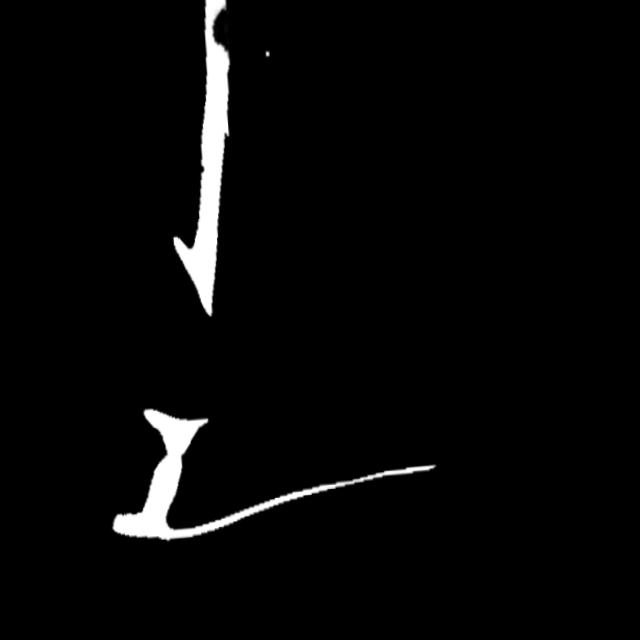sl: (196, 2, 235, 68)
